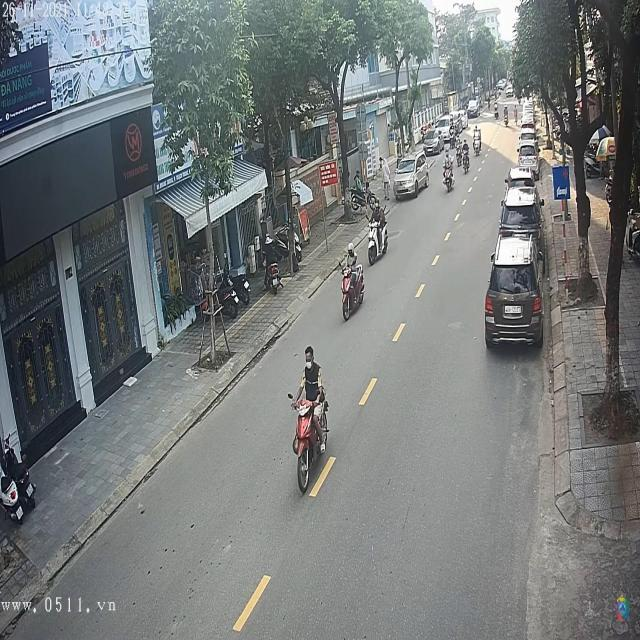car: (485, 244, 543, 349), (500, 188, 542, 238), (391, 158, 430, 202), (424, 127, 450, 155), (518, 148, 539, 170), (469, 98, 481, 117)
motorcycle: (292, 384, 334, 491), (339, 261, 369, 324), (366, 214, 390, 262), (444, 158, 454, 192)
